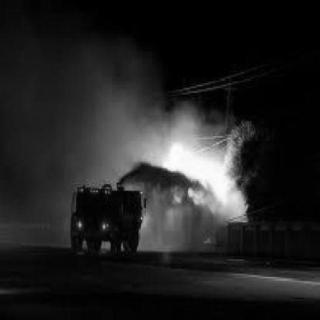Fire: (159, 134, 249, 226)
other: (100, 220, 108, 231), (89, 188, 98, 192)
